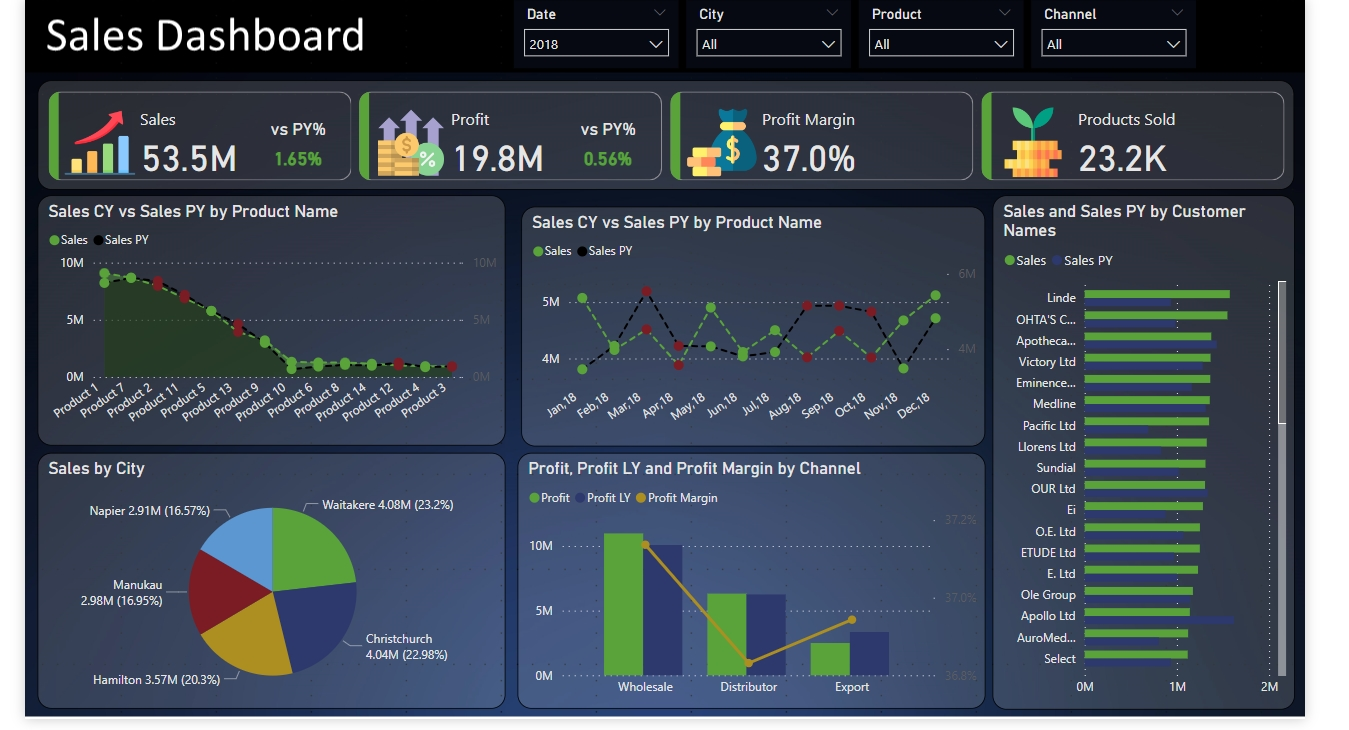

The dashboard page shown, as its layout file describes it:
{"tool":"powerbi","page":{"name":"Sales Dashboard","canvas":[1280,720],"ordinal":0},"visuals":[{"type":"slicer","fields":{"Values":["DateTable.Year","DateTable.Month Short Name Plus Year"]},"box":[488.2,1.4,165,67.7],"z":0},{"type":"slicer","fields":{"Values":["Regions_Table.City"]},"box":[661,1.4,165,67.7],"z":1000},{"type":"slicer","fields":{"Values":["Products_Data.Product Name"]},"box":[833.8,1.4,165,67.7],"z":2000},{"type":"slicer","fields":{"Values":["Sales_Data.Channel"]},"box":[1006.6,1.4,165,67.7],"z":3000},{"type":"lineClusteredColumnComboChart","title":"Sales CY vs Sales PY by Product Name","fields":{"Category":["Products_Data.Product Name"],"Y":["Measure Table.Sales"],"Y2":["Measure Table.Sales PY"]},"box":[13,195.8,468,250.6],"z":4000},{"type":"lineClusteredColumnComboChart","title":"Sales CY vs Sales PY by Product Name","fields":{"Y":["Measure Table.Sales"],"Y2":["Measure Table.Sales PY"],"Category":["DateTable.Month Short Name Plus Year"]},"box":[492.5,195.8,468,250.6],"z":5000},{"type":"donutChart","fields":{"Y":["Measure Table.Sales"],"Category":["Regions_Table.City"]},"box":[13,453.6,468,256.3],"z":6000},{"type":"areaChart","fields":{"Category":["Sales_Data.Channel"],"Y":["Measure Table.Profit","Measure Table.Profit LY"],"Y2":["Measure Table.Profit Margin"]},"box":[492.5,453.6,468,256.3],"z":7000},{"type":"clusteredBarChart","fields":{"Y":["Measure Table.Sales","Measure Table.Sales PY"],"Category":["Customer_Data.Customer Names"]},"box":[967.7,195.8,302.4,514.1],"z":8000},{"type":"cardVisual","fields":{"Data":["Measure Table.Sales","Measure Table.Profit","Measure Table.Profit Margin","Measure Table.Products Sold"]},"box":[13,80.6,1257.1,109.4],"z":9000},{"type":"card","title":"vs PY%","fields":{"Values":["Measure Table.Sales vs PY %"]},"box":[226.1,119.5,93.6,60.5],"z":10000},{"type":"card","title":"vs PY%","fields":{"Values":["Measure Table.Profit vs LY %"]},"box":[535.7,119.5,93.6,60.5],"z":11000}]}

Visuals, with their boxes on the page's 1280x720 design canvas (x1, y1, x2, y2). These are canvas units, not pixel positions in the 1349x730 screenshot, which may show the page scaled, cropped or inside an application window:
slicer - DateTable.Year x DateTable.Month Short Name Plus Year: 488, 1, 653, 69
slicer - Regions_Table.City: 661, 1, 826, 69
slicer - Products_Data.Product Name: 834, 1, 999, 69
slicer - Sales_Data.Channel: 1007, 1, 1172, 69
"Sales CY vs Sales PY by Product Name" lineClusteredColumnComboChart: 13, 196, 481, 446
"Sales CY vs Sales PY by Product Name" lineClusteredColumnComboChart: 492, 196, 960, 446
donutChart - Measure Table.Sales x Regions_Table.City: 13, 454, 481, 710
areaChart - Sales_Data.Channel x Measure Table.Profit: 492, 454, 960, 710
clusteredBarChart - Measure Table.Sales x Measure Table.Sales PY: 968, 196, 1270, 710
cardVisual - Measure Table.Sales x Measure Table.Profit: 13, 81, 1270, 190
"vs PY%" card: 226, 120, 320, 180
"vs PY%" card: 536, 120, 629, 180
